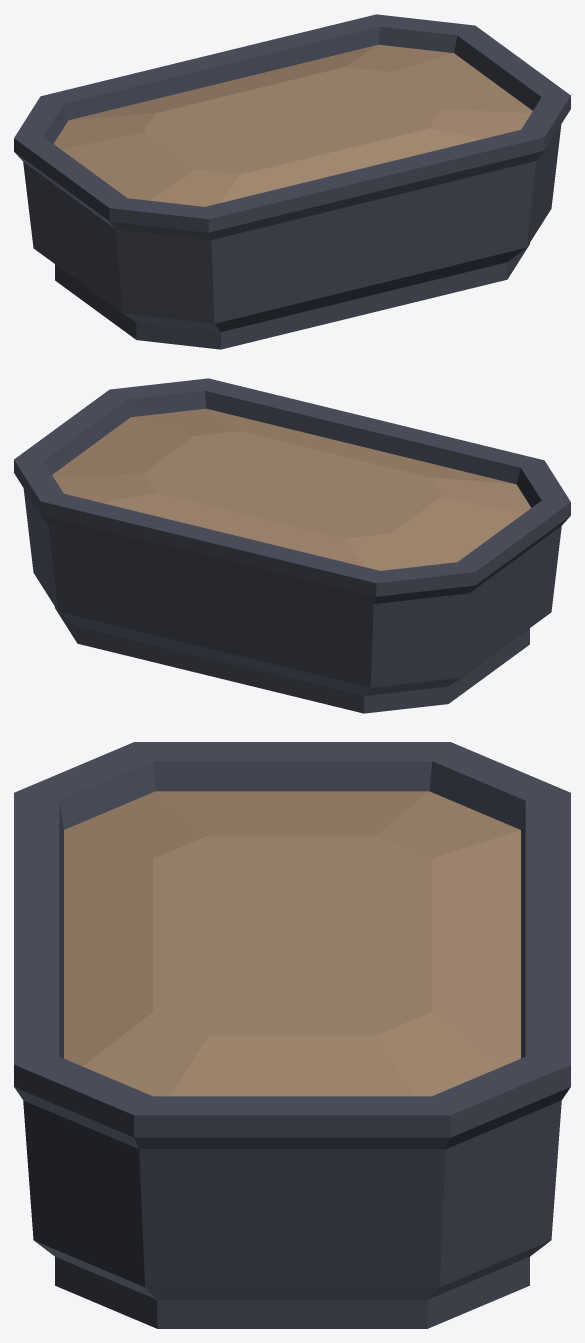
The model's file is Asian_Prop_Pot_Plant_Bonsai_Empty_01.FBX.
3 views of the same model, one above another, from view 1: azimuth 30°, elevation 25°; view 2: azimuth 150°, elevation 25°; view 3: azimuth 270°, elevation 25° (orthographic). The views are drawn at different scales.
Parts seen in each view (by area): view 1: Asian_Prop_Pot_Plant_Bonsai_Empty_01; view 2: Asian_Prop_Pot_Plant_Bonsai_Empty_01; view 3: Asian_Prop_Pot_Plant_Bonsai_Empty_01.
Part boxes in pixels (x1,y1,x2,y2): Asian_Prop_Pot_Plant_Bonsai_Empty_01: [14, 14, 570, 349]; Asian_Prop_Pot_Plant_Bonsai_Empty_01: [14, 378, 570, 713]; Asian_Prop_Pot_Plant_Bonsai_Empty_01: [14, 742, 570, 1328].
Size of the model in its own units: 359 by 108 by 226.
